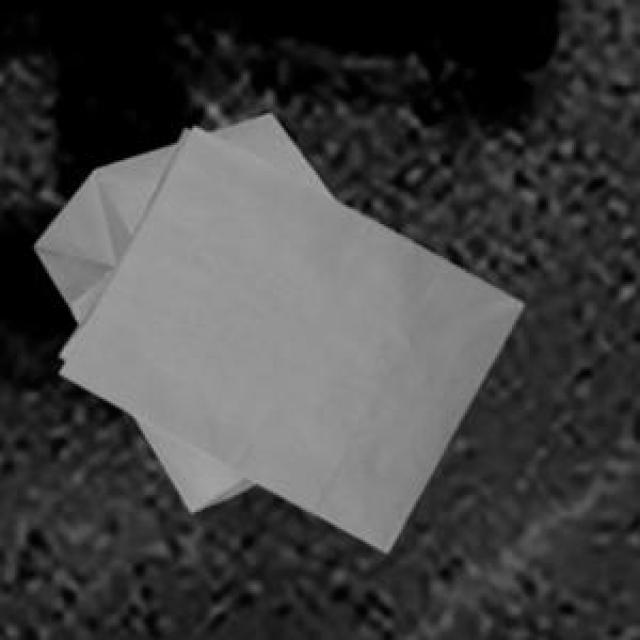paper: (56, 124, 518, 548), (32, 111, 328, 508)
